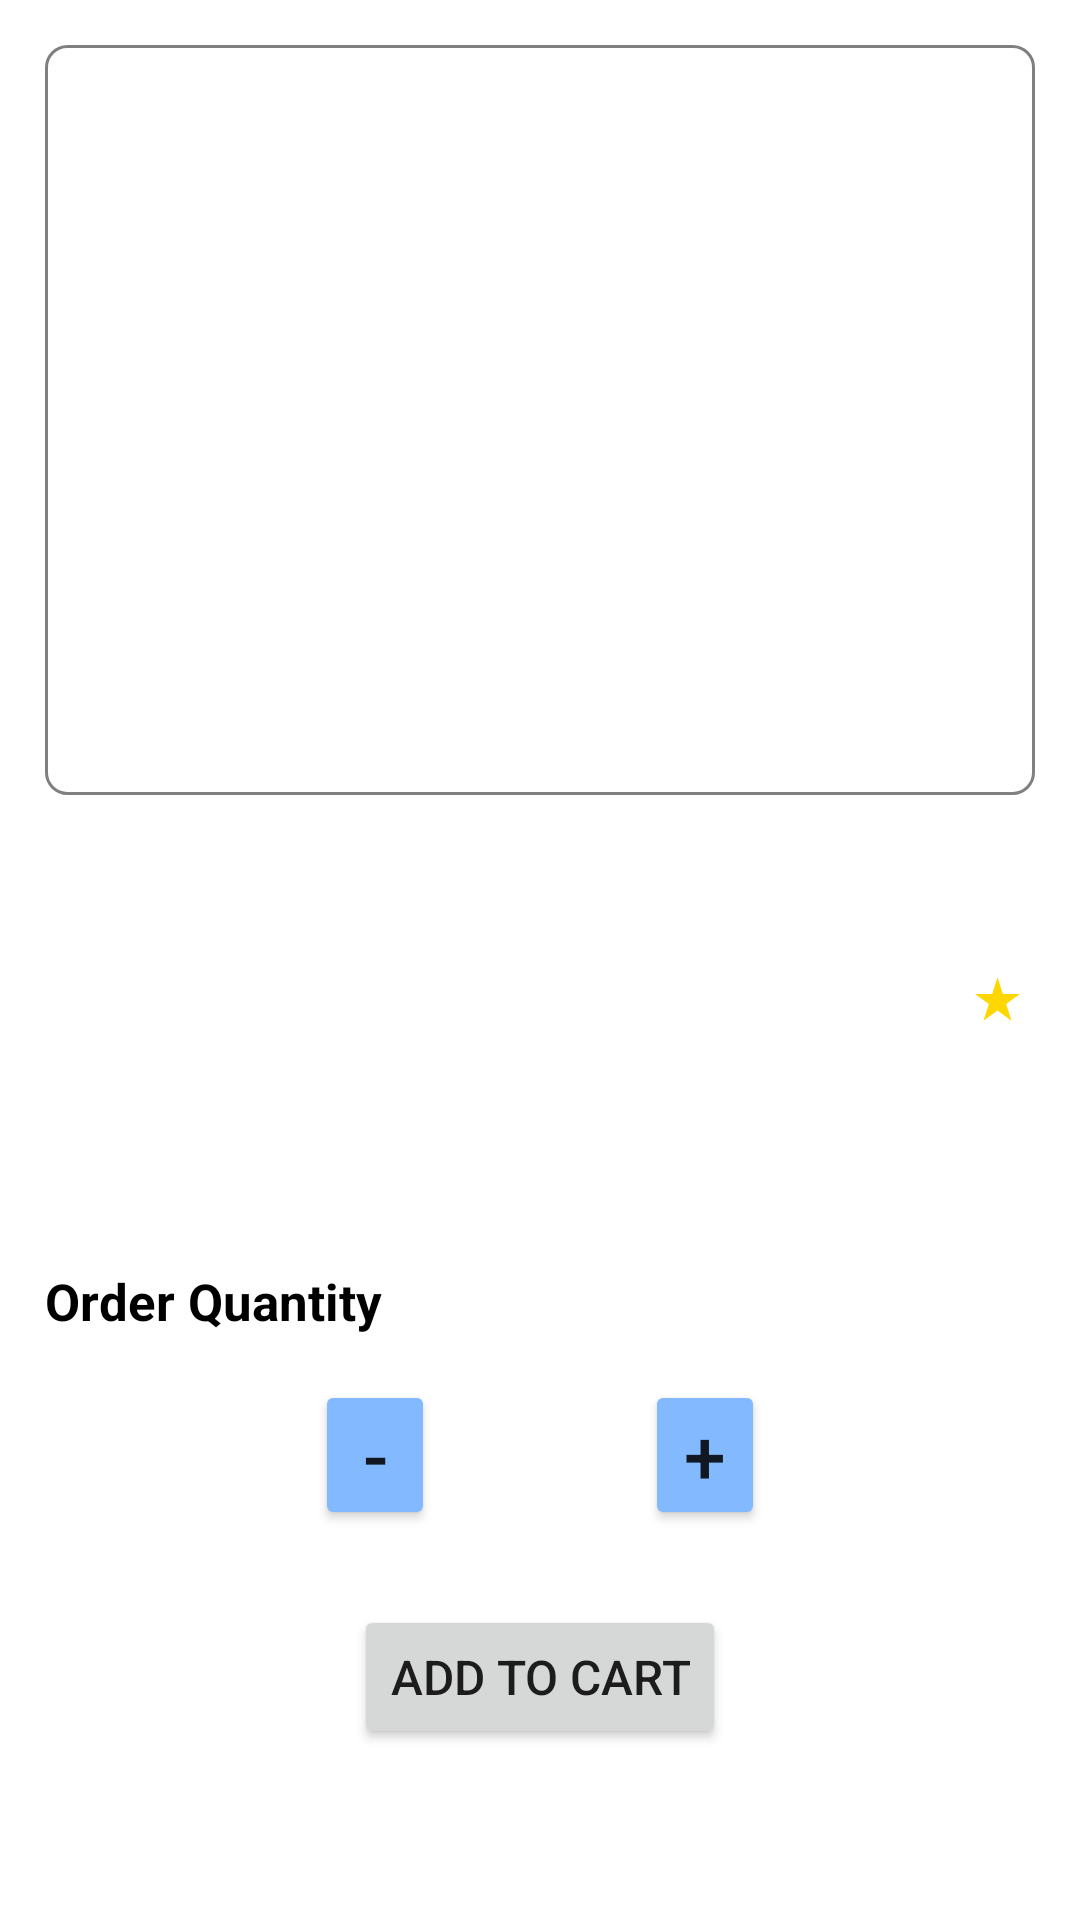

Screen size 1080x1920. Icon name, then its center in pixels as (x=x, y=y):
star: (x=997, y=999)
